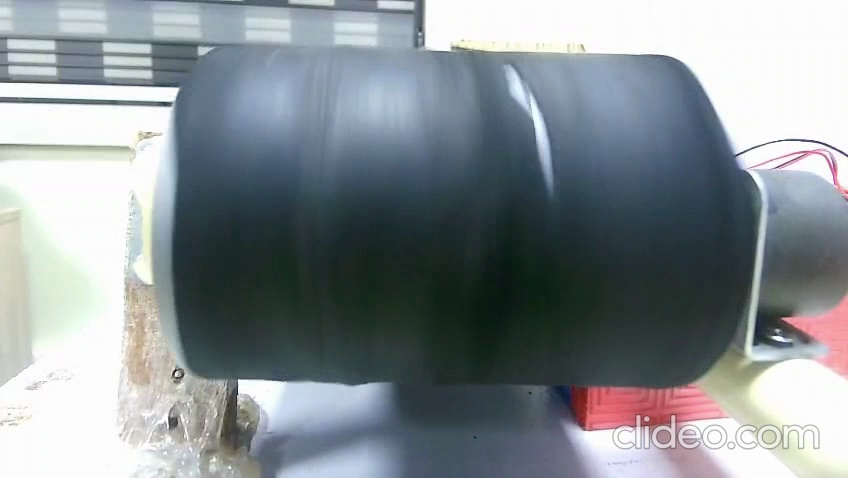tear: (497, 55, 559, 196)
